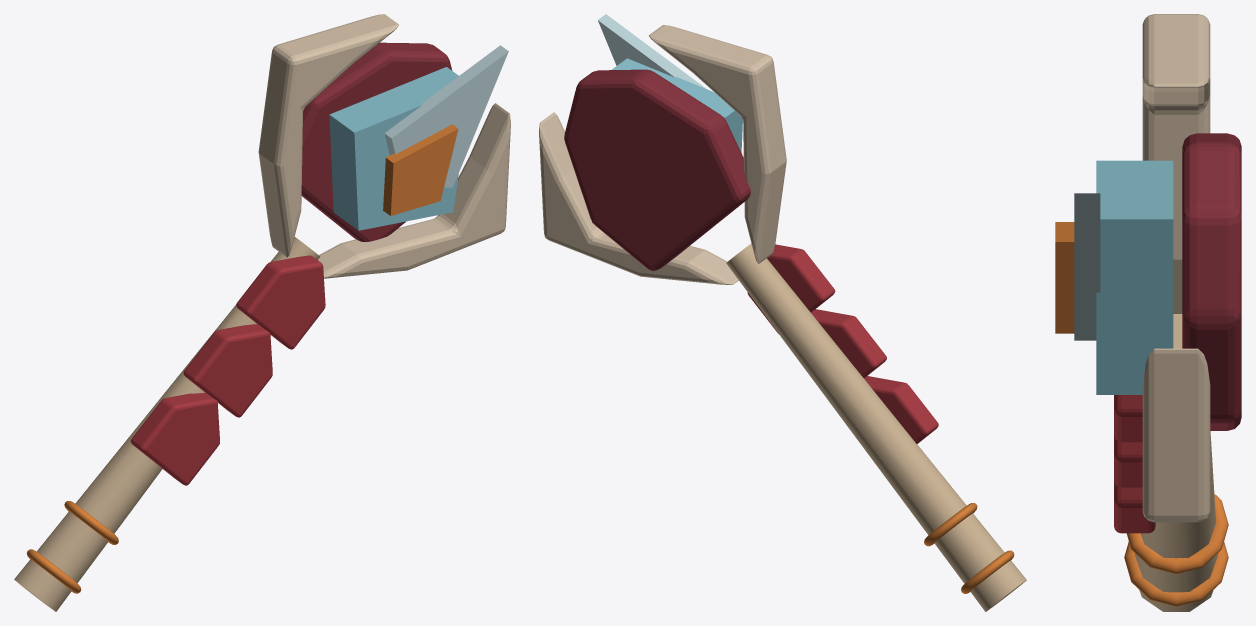
Rendered from wyrmfire.glb.
The picture shows the model from 3 angles, left to right: view 1: azimuth 30°, elevation 25°; view 2: azimuth 150°, elevation 25°; view 3: azimuth 270°, elevation 25°; orthographic projection. The views are drawn at different scales.
Parts seen in each view (by area): view 1: _cyl, _profile.002, _profile.006, _profile.008; view 2: _cyl, _profile.002, _profile.006, _profile.008; view 3: _cyl, _profile.006, _profile.002, _profile.008.
Boxes of the visible parts, x1=… form: _cyl: x1=14, y1=14, x2=510, y2=611; _profile.002: x1=130, y1=42, x2=452, y2=485; _profile.006: x1=329, y1=45, x2=508, y2=230; _profile.008: x1=26, y1=124, x2=458, y2=593; _cyl: x1=539, y1=25, x2=1026, y2=611; _profile.002: x1=564, y1=69, x2=938, y2=443; _profile.006: x1=598, y1=14, x2=742, y2=152; _profile.008: x1=924, y1=503, x2=1014, y2=593; _cyl: x1=1134, y1=14, x2=1217, y2=611; _profile.006: x1=1074, y1=160, x2=1173, y2=394; _profile.002: x1=1114, y1=133, x2=1241, y2=533; _profile.008: x1=1055, y1=222, x2=1228, y2=606.
Bounding box in the file's own units: 0.9091 × 0.9092 × 0.1962.
